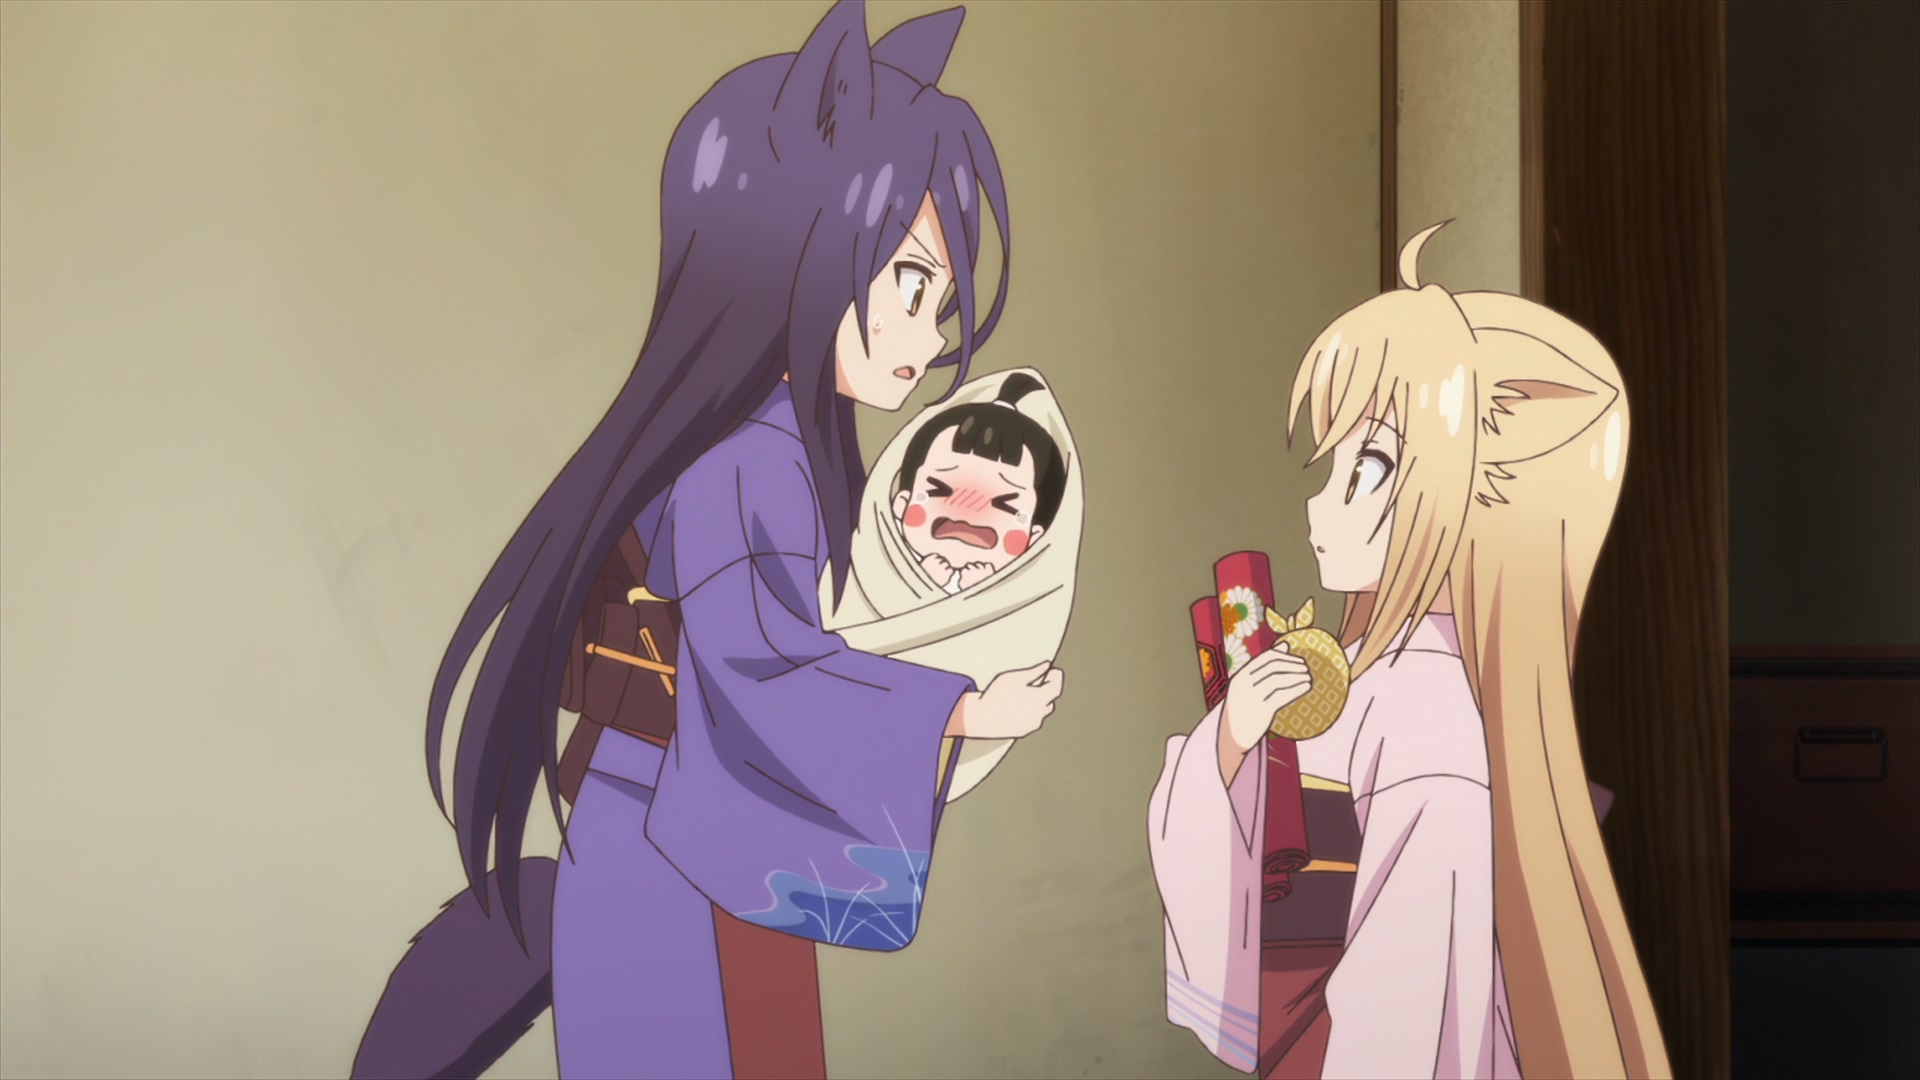其他: (816, 367, 1081, 806)
柚: (1153, 219, 1668, 1080)
皋: (352, 1, 1081, 1080)
